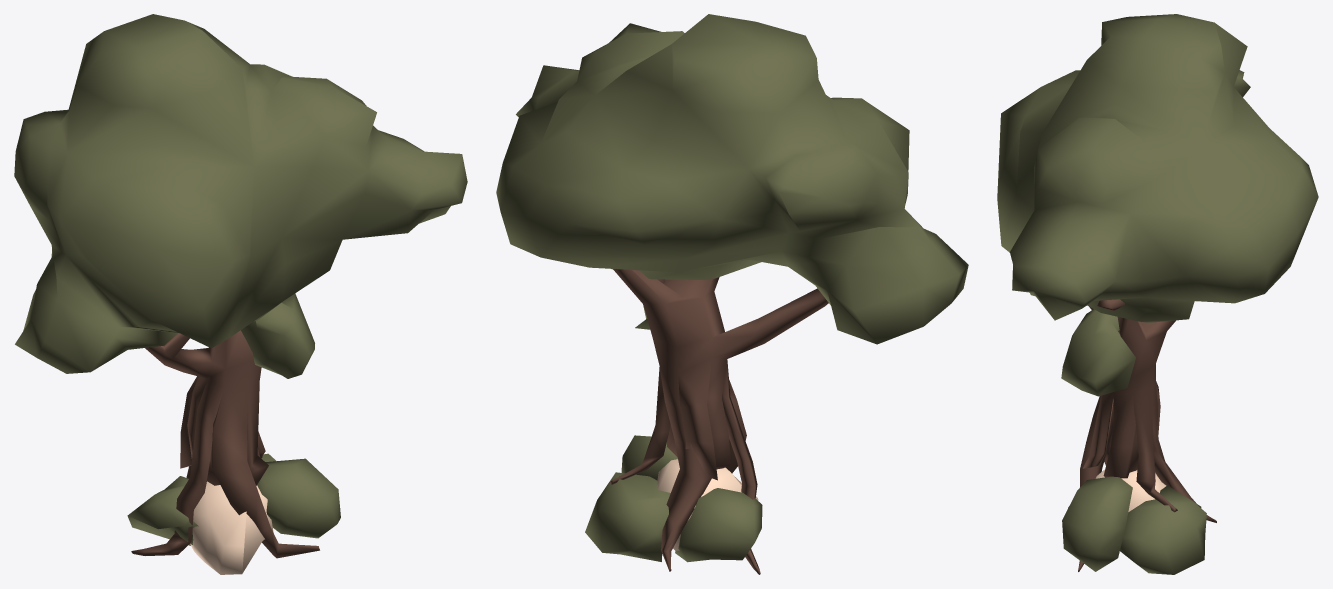
Rendered from tree.gltf.
3 renders of one model, left to right at view 1: azimuth 30°, elevation 25°; view 2: azimuth 150°, elevation 25°; view 3: azimuth 270°, elevation 25°, orthographic. The views are drawn at different scales.
Parts seen in each view (by area): view 1: tree_0; view 2: tree_0; view 3: tree_0.
Part boxes in pixels (left/top/right/bottom): tree_0: left=14, top=14, right=467, bottom=574; tree_0: left=496, top=14, right=968, bottom=574; tree_0: left=997, top=14, right=1318, bottom=574.
Bounding box in the file's own units: 1.33 × 1.59 × 0.9365.
